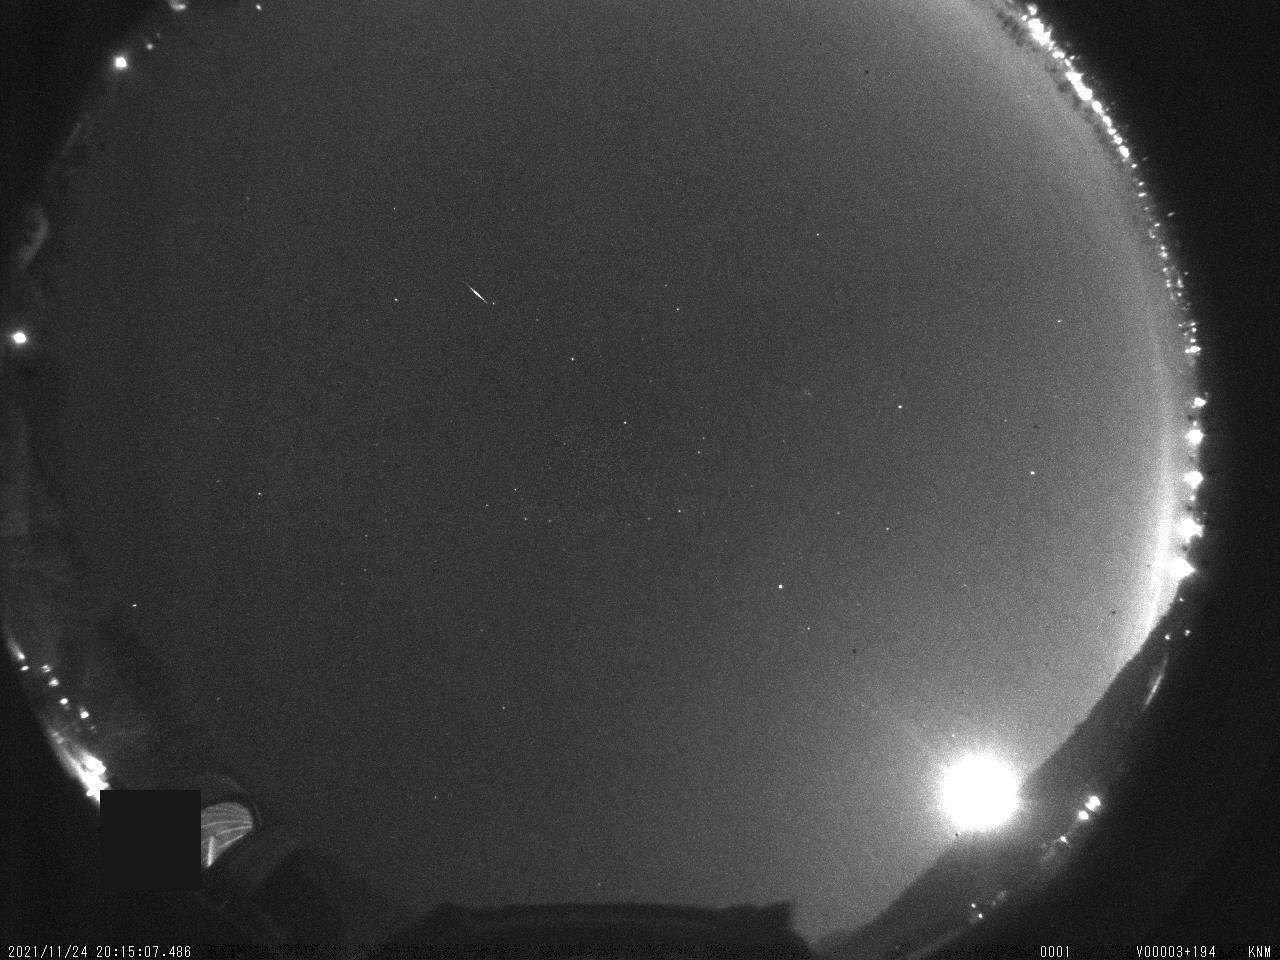Meteor: (464, 281, 493, 306)
